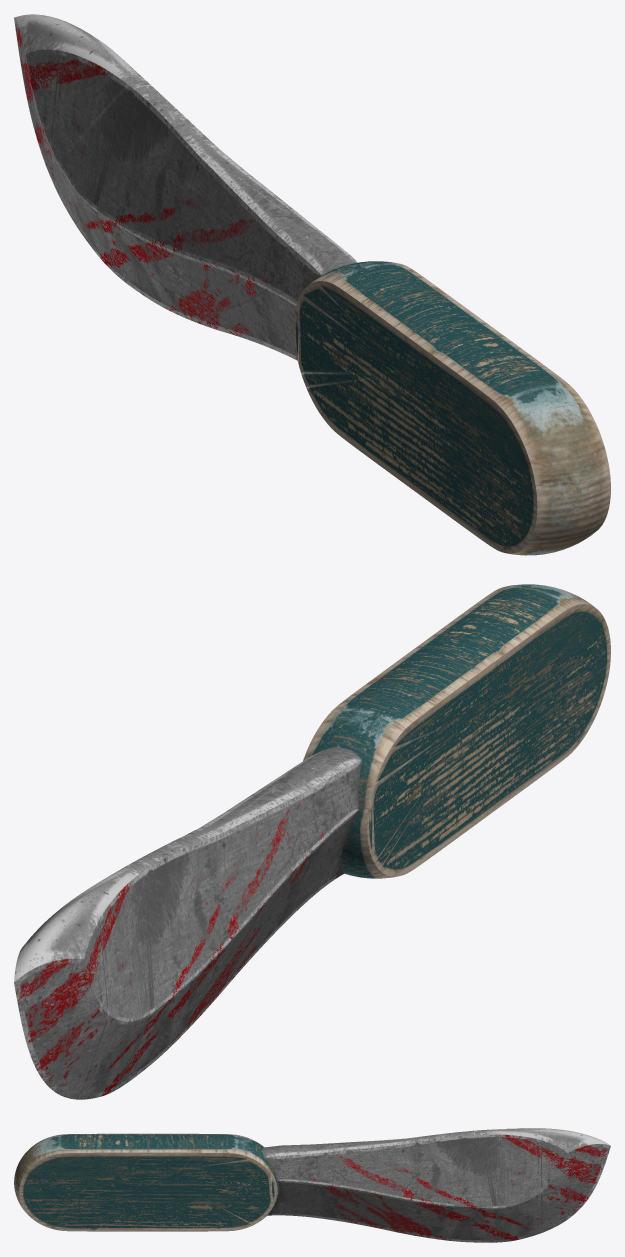
The picture shows the model from 3 angles, top to bottom: view 1: azimuth 30°, elevation 25°; view 2: azimuth 150°, elevation 25°; view 3: azimuth 270°, elevation 25°; orthographic projection. The views are drawn at different scales.
Visible parts, largest first — view 1: Geode; view 2: Geode; view 3: Geode.
Part boxes in pixels (x1,y1,x2,y2): Geode: (14, 14, 610, 555); Geode: (14, 584, 610, 1099); Geode: (14, 1128, 610, 1242).
Bounding box in the file's own units: 0.4893 × 1.36 × 6.5.
Materials: 1 (1 with a texture image).
